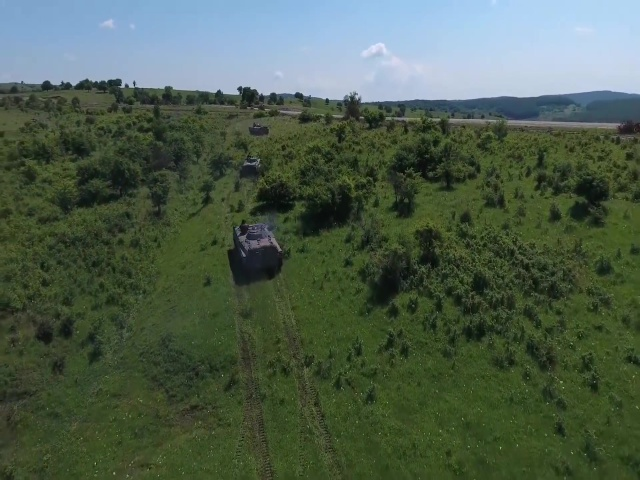vehicle: (233, 222, 284, 275), (240, 156, 262, 177), (248, 122, 269, 136)
